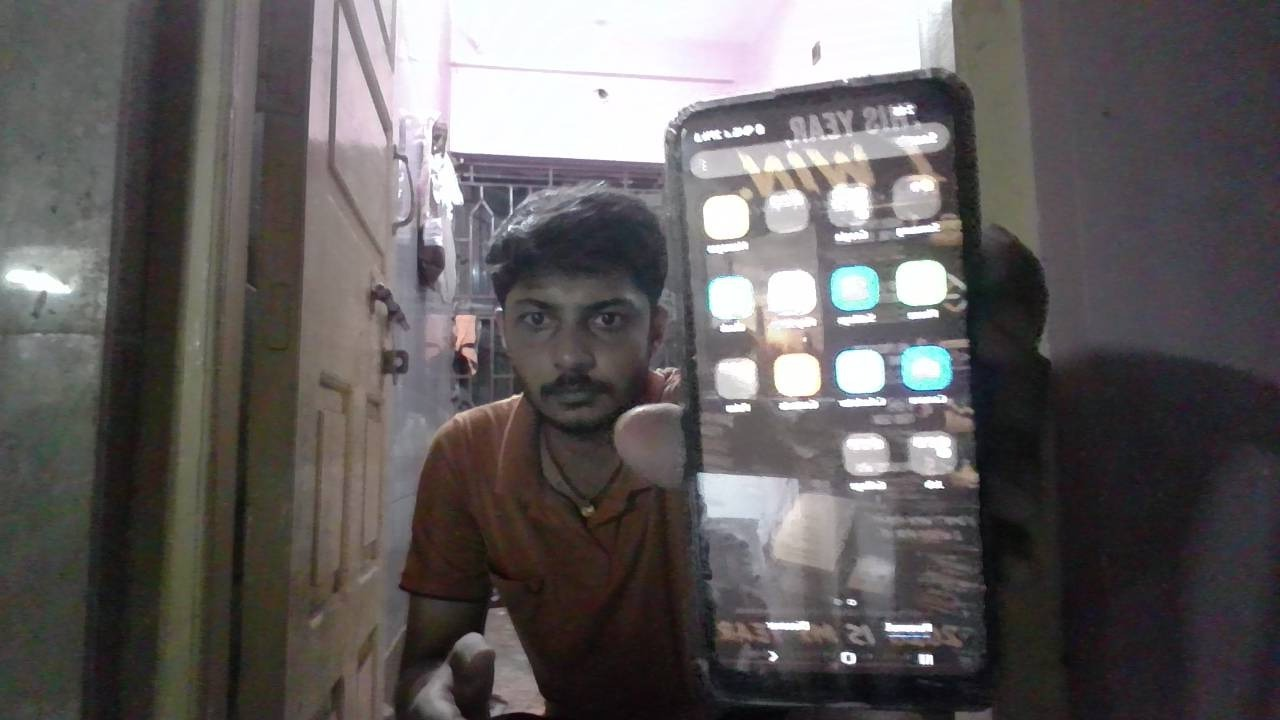red_box: (419, 415, 534, 544)
